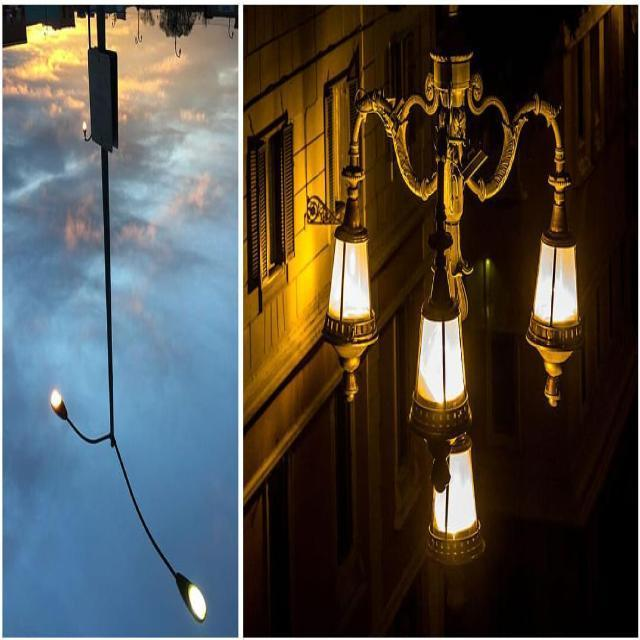on: (385, 286, 486, 546), (502, 186, 608, 396), (313, 218, 398, 358), (22, 353, 108, 480), (168, 496, 228, 640)
